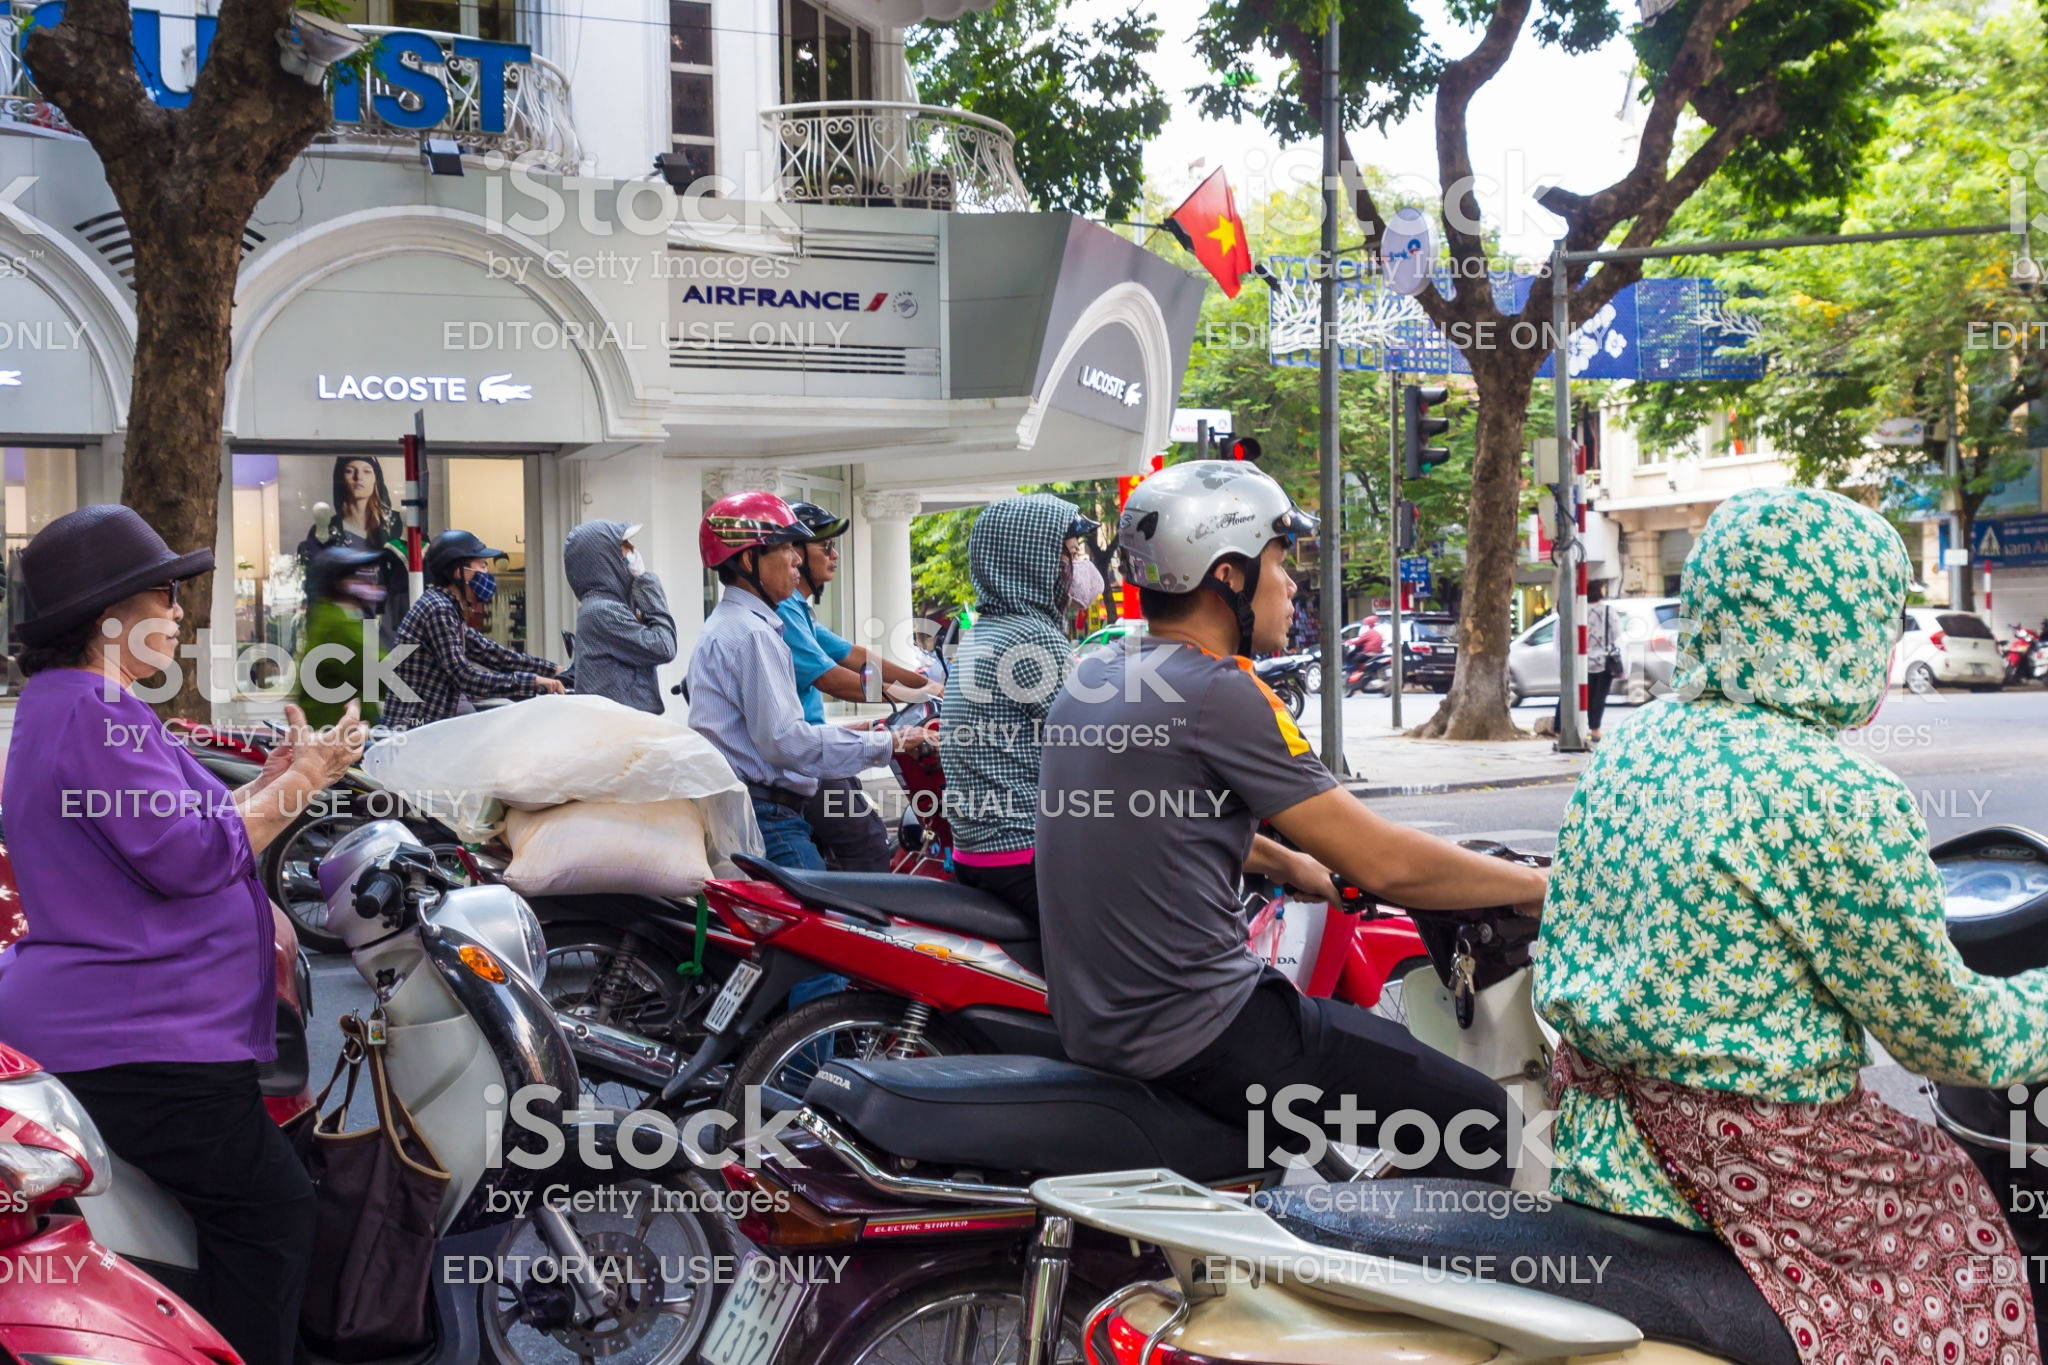helmet: (1098, 448, 1287, 587), (697, 492, 799, 542)
